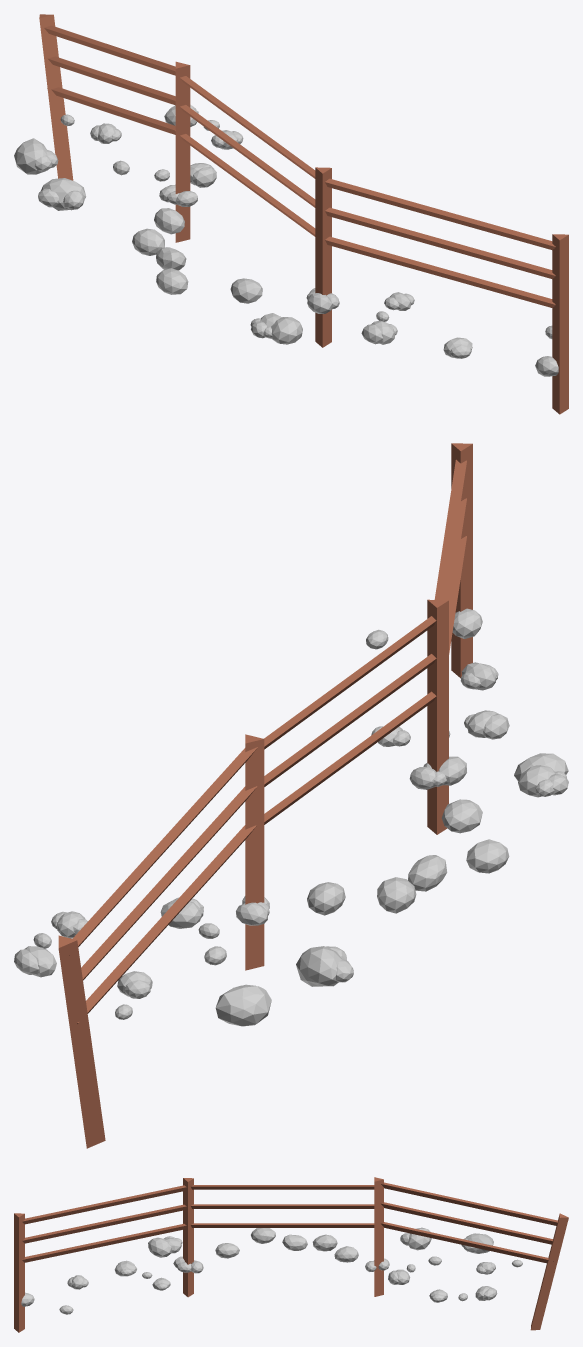
Rendered from fence and rocks.fbx.
The picture shows the model from 3 angles, top to bottom: view 1: azimuth 30°, elevation 25°; view 2: azimuth 150°, elevation 25°; view 3: azimuth 270°, elevation 25°; orthographic projection. The views are drawn at different scales.
Parts seen in each view (by area): view 1: Cylinder_3_2, Cylinder_3_3, Cylinder_3, Cylinder_3_5, Cylinder_1_2, Cylinder_2_3, Cylinder_2_2, Cylinder, Cylinder_2_4, Cylinder_1_3, Cylinder_3_4, Cylinder_1 (+9 smaller); view 2: Cylinder_3_3, Cylinder_3, Cylinder_3_5, Cylinder_3_2, Cylinder, Cylinder_1, Cylinder_2, Cylinder_3_4, Cylinder_2_4, Cylinder_1_3, Sphere_5, Cylinder_2_3 (+6 smaller); view 3: Cylinder_3_2, Cylinder_3, Cylinder_3_3, Cylinder, Cylinder_3_5, Cylinder_1, Cylinder_2, Cylinder_2_2, Cylinder_1_2, Cylinder_2_3, Cylinder_2_4, Cylinder_3_4 (+9 smaller).
Part boxes in pixels (x1,y1,x2,y2): Cylinder_3_2: (552,234,568,414); Cylinder_3_3: (315,167,331,347); Cylinder_3: (39,14,73,180); Cylinder_3_5: (175,61,190,242); Cylinder_1_2: (325,207,555,278); Cylinder_2_3: (325,178,555,249); Cylinder_2_2: (325,236,555,307); Cylinder: (44,25,175,75); Cylinder_2_4: (180,134,315,236); Cylinder_1_3: (180,105,315,207); Cylinder_3_4: (180,76,315,178); Cylinder_1: (48,56,175,105); Cylinder_3_3: (427,599,448,834); Cylinder_3: (58,935,105,1148); Cylinder_3_5: (245,734,264,970); Cylinder_3_2: (451,443,472,678); Cylinder: (69,747,257,955); Cylinder_1: (81,786,257,980); Cylinder_2: (77,825,256,1023); Cylinder_3_4: (264,616,436,749); Cylinder_2_4: (264,691,436,824); Cylinder_1_3: (264,654,436,786); Sphere_5: (215,984,271,1026); Cylinder_2_3: (434,459,466,600); Cylinder_3_2: (14,1213,24,1332); Cylinder_3: (530,1213,568,1330); Cylinder_3_3: (183,1178,193,1297); Cylinder: (381,1182,557,1225); Cylinder_3_5: (374,1177,383,1296); Cylinder_1: (381,1202,552,1244); Cylinder_2: (381,1222,553,1263); Cylinder_2_2: (22,1223,186,1262); Cylinder_1_2: (22,1204,186,1243); Cylinder_2_3: (22,1185,186,1224); Cylinder_2_4: (191,1223,374,1227); Cylinder_3_4: (191,1185,374,1189).
Bounding box in the file's own units: 367 × 311 × 1049.
